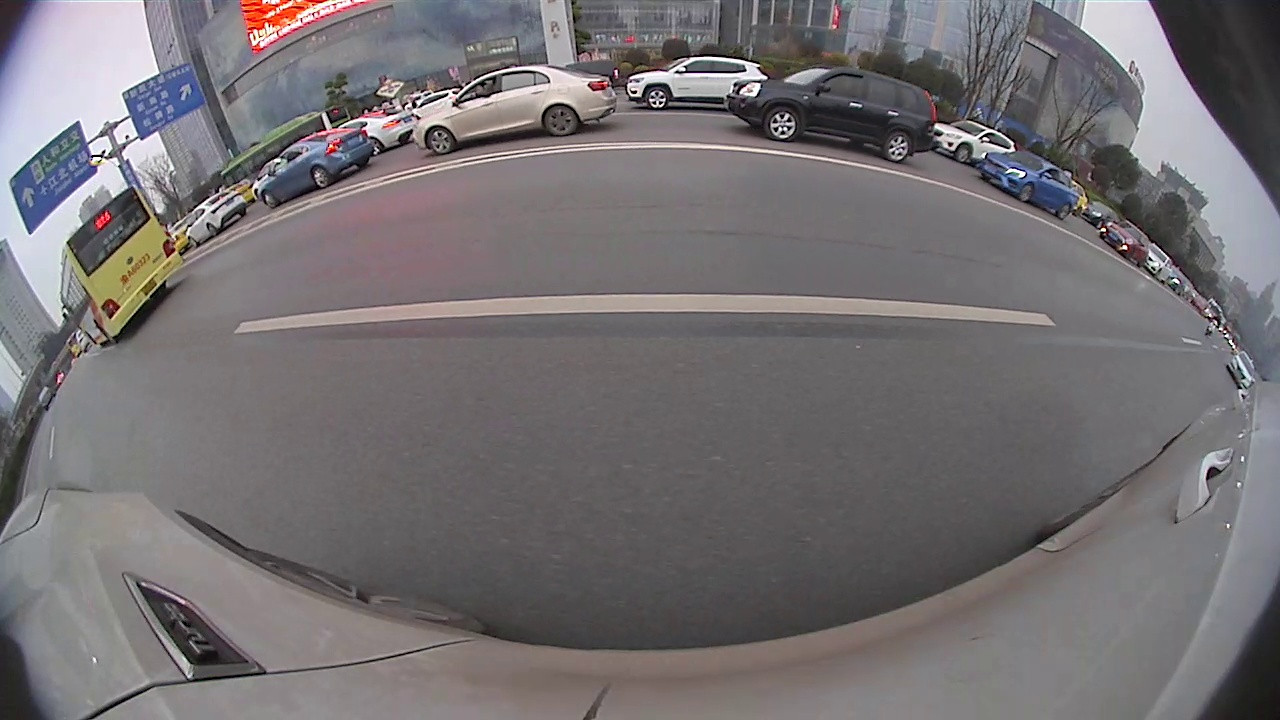bus: (58, 182, 186, 352)
car: (723, 66, 940, 165), (411, 62, 617, 156), (258, 127, 373, 211), (624, 53, 772, 112), (979, 149, 1079, 220), (932, 118, 1018, 174), (183, 190, 246, 249), (339, 108, 416, 156), (1098, 220, 1153, 269)
front: (763, 104, 803, 147), (424, 125, 455, 156), (641, 84, 672, 110), (952, 143, 972, 164), (260, 189, 280, 209), (1016, 182, 1034, 203), (187, 237, 201, 252)
rear: (541, 104, 581, 140), (879, 132, 916, 166), (95, 319, 122, 347), (309, 164, 334, 191), (204, 222, 221, 238), (1057, 204, 1071, 222)
